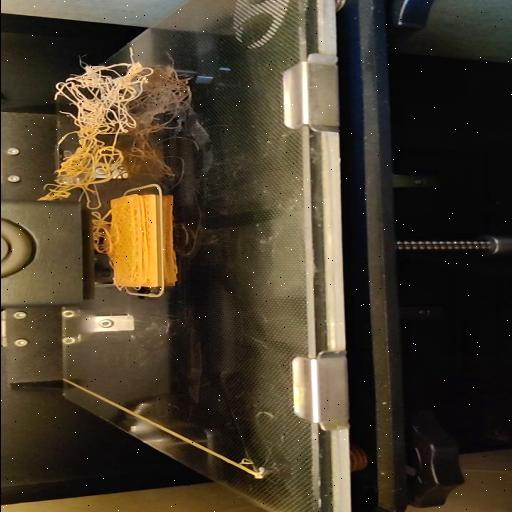spaghetti: (30, 46, 150, 204), (93, 211, 117, 254)
